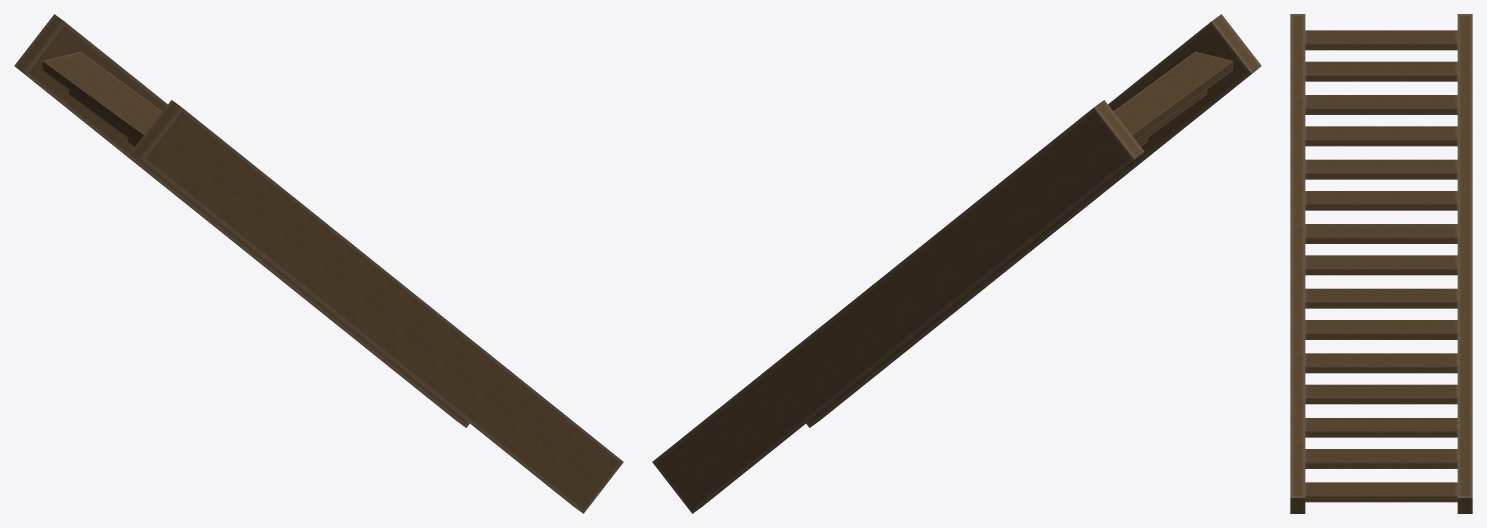
The model's file is Stairs.fbx.
3 views of the same model, side by side, from view 1: azimuth 30°, elevation 25°; view 2: azimuth 150°, elevation 25°; view 3: azimuth 270°, elevation 25° (orthographic). The views are drawn at different scales.
Visible parts, largest first — view 1: Stairs; view 2: Stairs; view 3: Stairs.
Part boxes in pixels (box(x1,y1,x2,y2)): Stairs: box(14, 14, 623, 513); Stairs: box(652, 14, 1261, 513); Stairs: box(1290, 14, 1472, 513).
Bounding box in the file's own units: 345 × 345 × 158.
